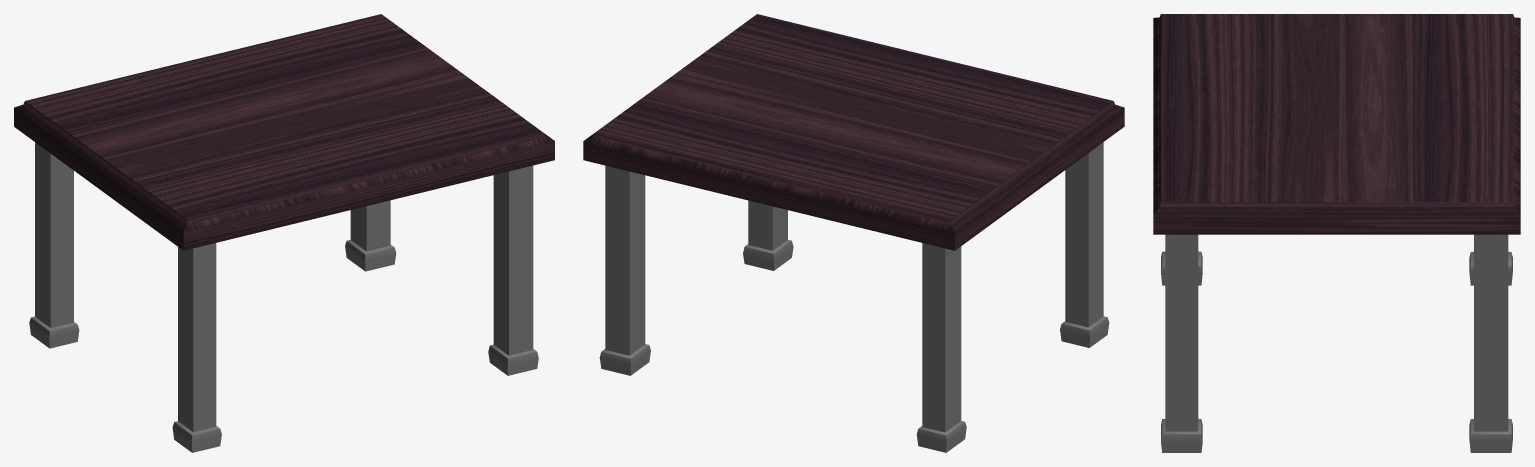
The model's file is table.fbx.
3 views of the same model, side by side, from view 1: azimuth 30°, elevation 25°; view 2: azimuth 150°, elevation 25°; view 3: azimuth 270°, elevation 25° (orthographic). The views are drawn at different scales.
Visible parts, largest first — view 1: table; view 2: table; view 3: table.
Part boxes in pixels (x1,y1,x2,y2): table: [14, 14, 554, 452]; table: [583, 14, 1124, 452]; table: [1153, 14, 1520, 452].
Size of the model in its own units: 1.28 by 0.7722 by 1.01.
